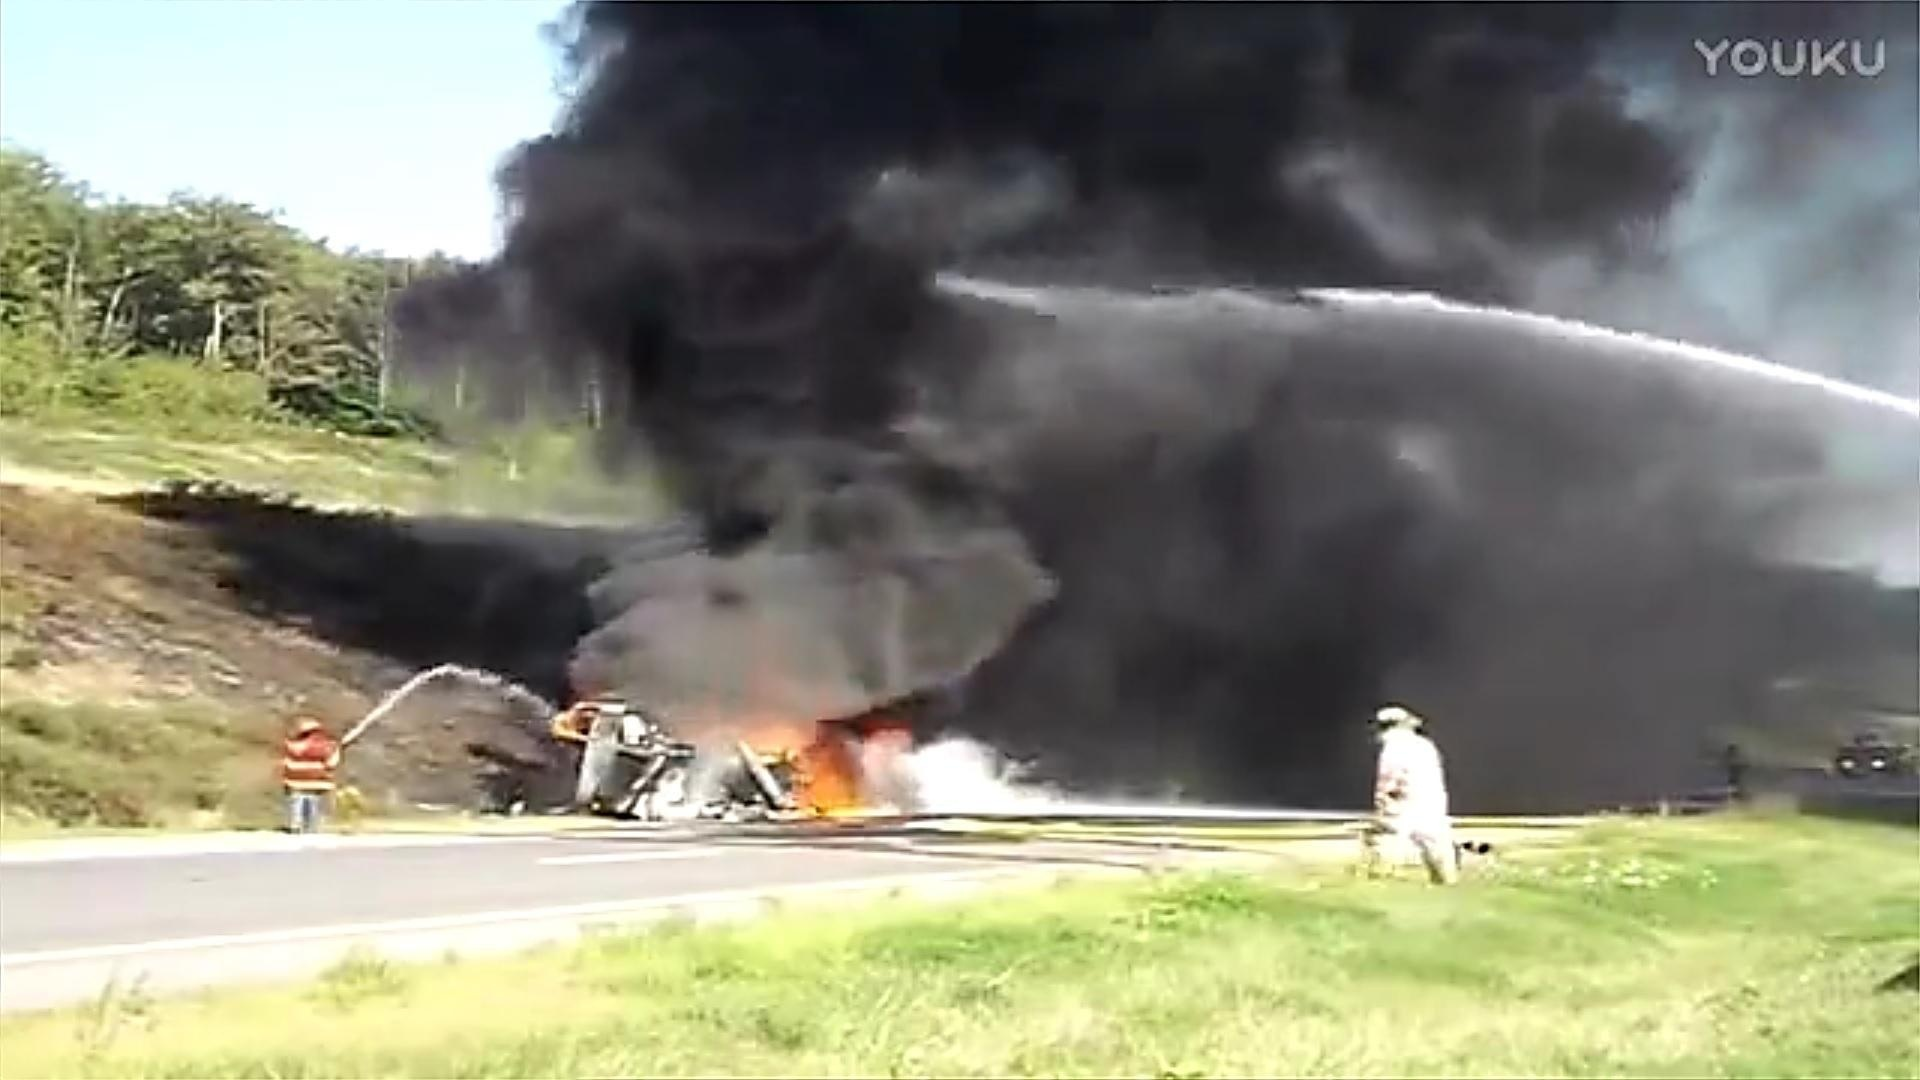fire: (766, 712, 913, 825)
